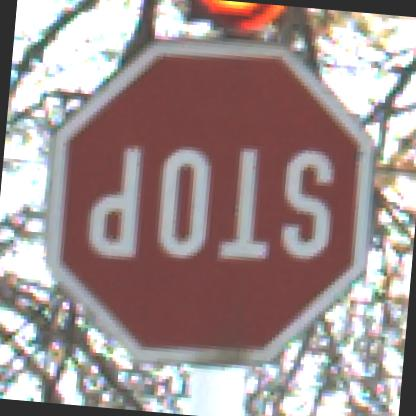stop: (32, 24, 381, 376)
